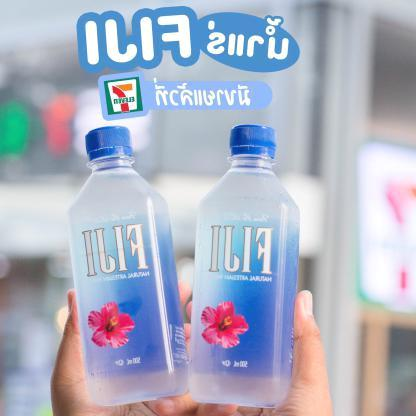bottle: (59, 115, 193, 413), (175, 116, 306, 415)
